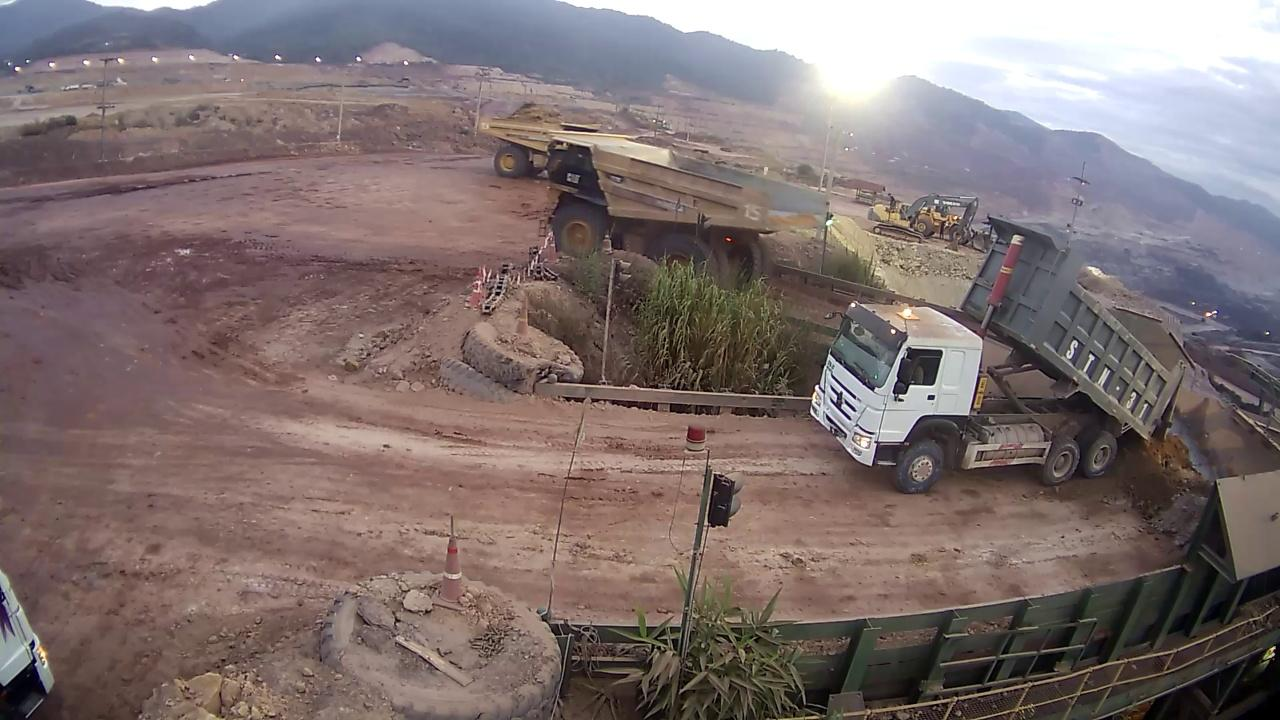empty_load: (652, 144, 796, 197)
mining_truck: (541, 132, 829, 301), (481, 101, 562, 180)
tail_number: (742, 202, 763, 224)
